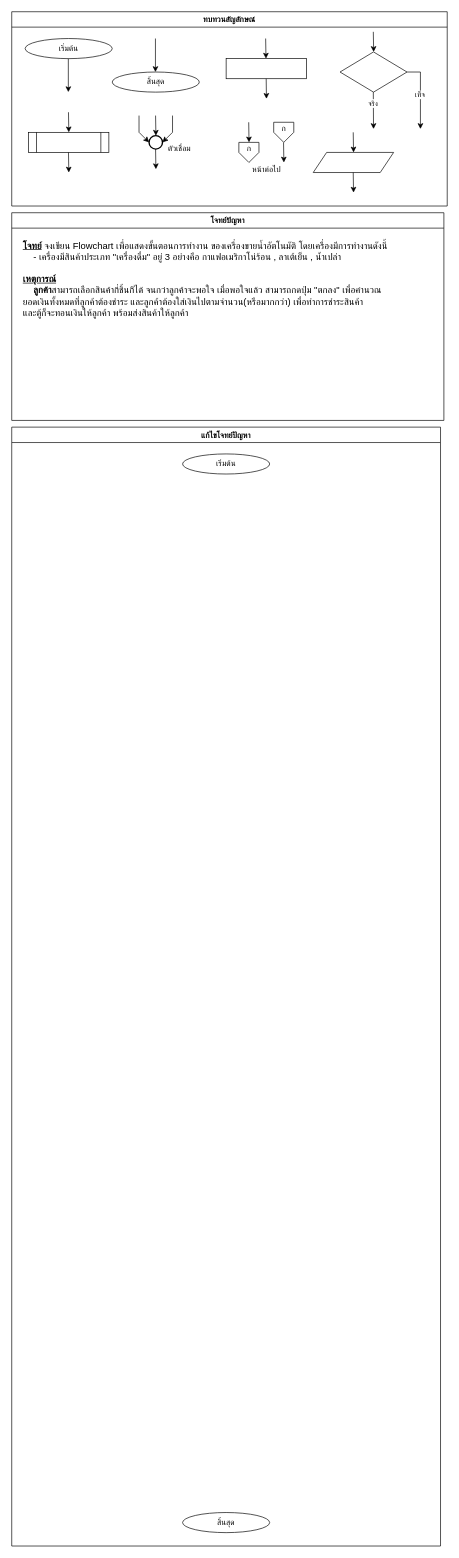
The diagram is 459 pixels wide and 1558 high, and some of its shapes have lost their labels. The centre of each missing label's shape, as x and y in pixels:
กระบวนการ: the point at 266,68
ประโยคเงื่อนไข: the point at 373,71
ฟังก์ชัน/โมดูล: the point at 68,142
แสดงผล/รับค่า: the point at 353,162
